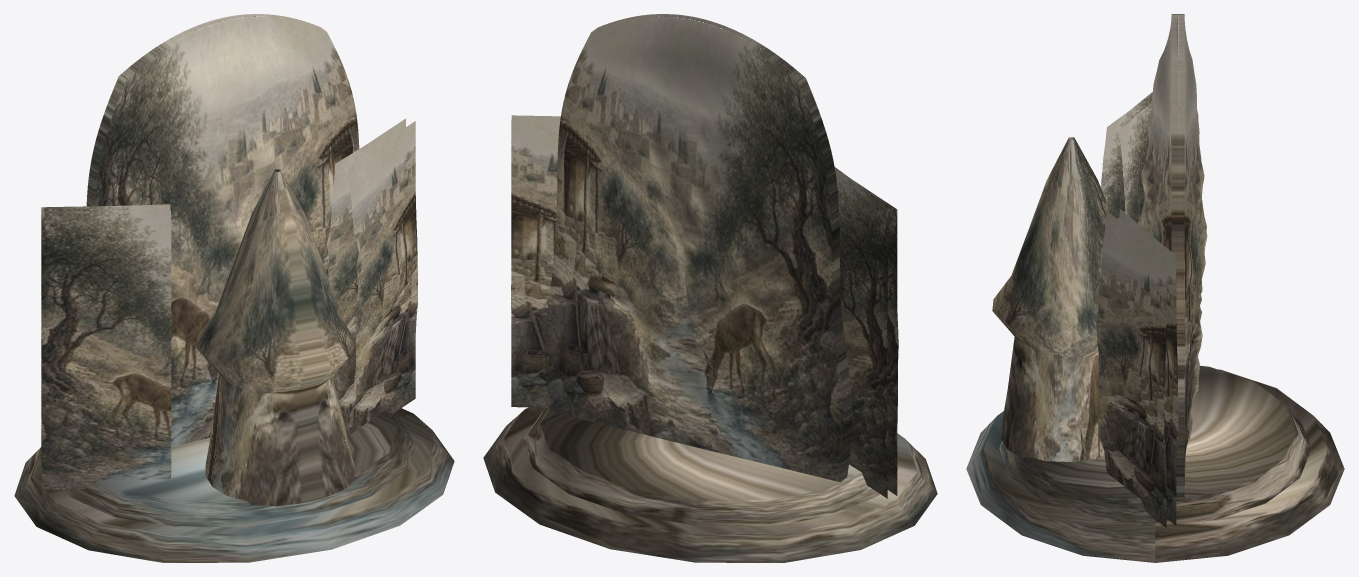
File: psalms-2-1.glb
The picture shows the model from 3 angles, left to right: view 1: azimuth 30°, elevation 25°; view 2: azimuth 150°, elevation 25°; view 3: azimuth 270°, elevation 25°; orthographic projection. The views are drawn at different scales.
Parts seen in each view (by area): view 1: PaintingSculptureMonument; view 2: PaintingSculptureMonument; view 3: PaintingSculptureMonument.
Boxes of the visible parts, x1,y1,x2,y2 form: PaintingSculptureMonument: (14,14,454,562); PaintingSculptureMonument: (483,14,937,562); PaintingSculptureMonument: (966,14,1344,562).
Size of the model in its own units: 2.76 by 2.99 by 2.35.
1 material, 1 textured.
